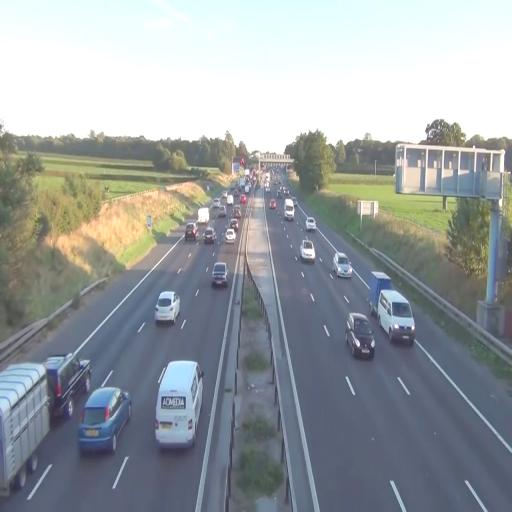vehicle: (0, 364, 51, 497), (154, 359, 204, 450), (77, 385, 132, 456), (44, 352, 92, 422), (378, 289, 415, 345), (346, 313, 376, 360), (154, 290, 180, 324), (332, 252, 352, 280), (211, 262, 230, 288), (299, 237, 315, 262), (204, 226, 216, 245), (284, 199, 295, 219), (224, 226, 236, 244), (304, 217, 317, 232)
